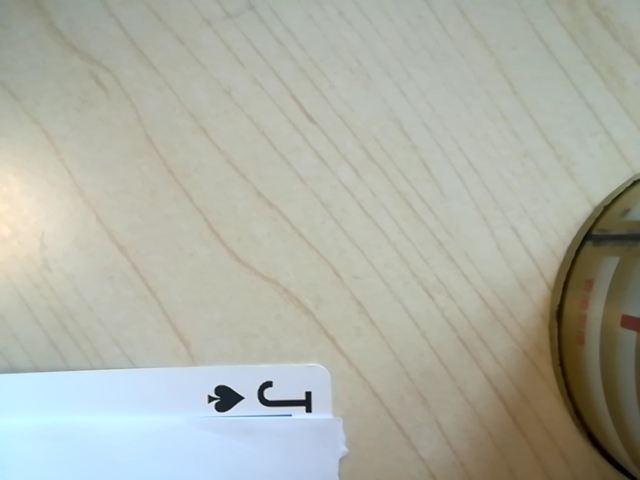ht j: (182, 371, 332, 429)
